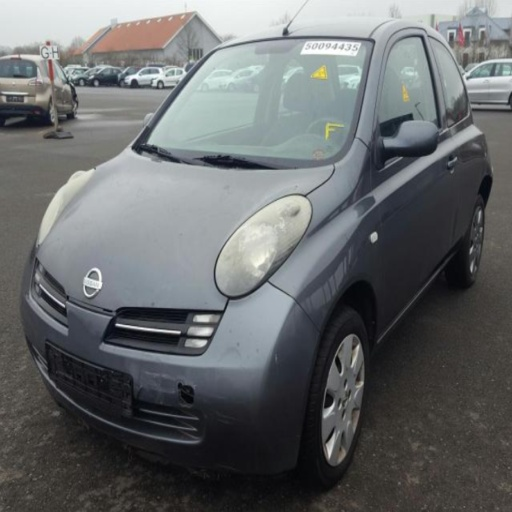dent: (137, 380, 164, 403), (218, 346, 243, 369), (236, 339, 242, 349)
rust: (350, 340, 358, 367), (351, 408, 358, 426), (355, 374, 362, 389), (338, 444, 344, 456)
scratch: (212, 407, 240, 426), (143, 367, 176, 382), (180, 374, 200, 393)
